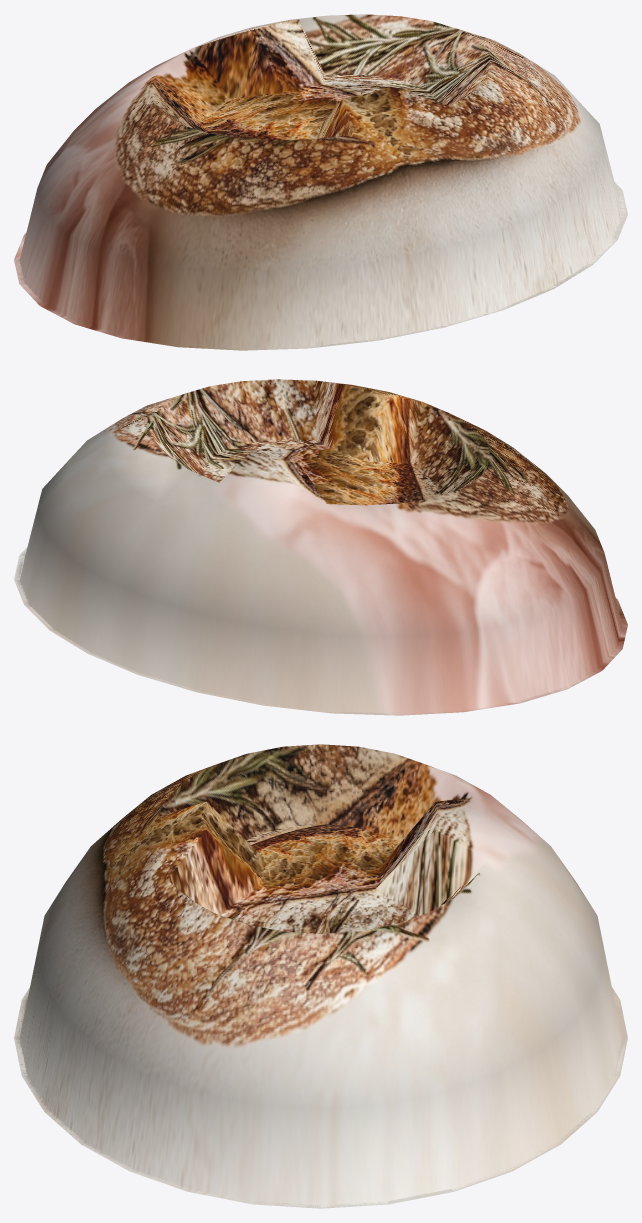
Rendered from prop_loaf_rosemary.glb.
3 renders of one model, top to bottom at view 1: azimuth 30°, elevation 25°; view 2: azimuth 150°, elevation 25°; view 3: azimuth 270°, elevation 25°, orthographic. The views are drawn at different scales.
Parts seen in each view (by area): view 1: prop_loaf_rosemary; view 2: prop_loaf_rosemary; view 3: prop_loaf_rosemary.
Boxes of the visible parts, x1,y1,x2,y2 form: prop_loaf_rosemary: [14, 14, 627, 350]; prop_loaf_rosemary: [14, 379, 627, 715]; prop_loaf_rosemary: [14, 744, 627, 1208].
Size of the model in its own units: 0.18 by 0.0545 by 0.1368.
Materials: 1 (1 with a texture image).
